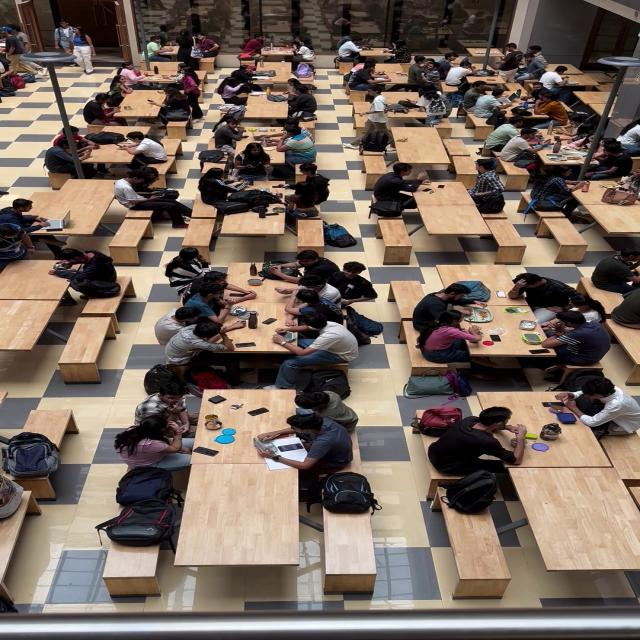Occupied: (416, 390, 628, 598), (122, 384, 369, 466), (180, 248, 338, 370), (424, 379, 640, 465), (416, 390, 633, 466), (479, 388, 616, 469), (185, 389, 317, 466), (1, 247, 120, 300), (206, 166, 326, 217), (197, 125, 298, 181), (462, 77, 562, 133), (49, 128, 171, 173), (464, 78, 561, 133), (0, 194, 103, 240), (208, 190, 296, 242), (354, 86, 454, 131), (459, 317, 563, 360), (81, 138, 184, 180), (373, 164, 481, 203), (222, 79, 316, 122), (499, 144, 579, 190), (97, 83, 186, 124), (390, 128, 452, 179), (355, 89, 450, 122), (238, 56, 308, 97), (202, 328, 306, 354), (342, 66, 417, 102), (234, 56, 314, 85), (584, 203, 640, 244), (411, 181, 490, 207), (525, 130, 583, 165), (342, 38, 412, 64), (457, 40, 552, 59), (524, 70, 612, 89), (113, 97, 163, 130), (450, 153, 494, 190), (440, 78, 501, 98), (198, 148, 238, 175), (188, 189, 224, 218), (557, 72, 611, 91), (135, 72, 182, 90), (192, 35, 221, 60), (257, 48, 298, 63), (441, 138, 472, 156), (193, 55, 216, 73), (165, 122, 188, 140), (165, 138, 184, 156), (144, 40, 164, 54), (160, 46, 176, 54)
Unoccupied: (514, 463, 640, 573), (182, 464, 306, 569), (439, 512, 511, 598), (320, 514, 377, 595), (0, 489, 32, 606), (100, 538, 162, 596), (418, 264, 534, 291), (391, 128, 452, 179), (412, 206, 496, 240), (0, 302, 50, 350), (18, 410, 78, 449), (418, 206, 496, 236), (537, 217, 589, 261), (600, 423, 640, 480), (23, 178, 105, 205), (107, 217, 155, 262), (478, 217, 526, 262), (57, 327, 107, 364), (426, 262, 522, 280), (376, 219, 413, 264), (390, 280, 428, 312), (570, 92, 610, 120), (182, 216, 218, 247), (360, 154, 391, 187), (76, 298, 129, 316), (296, 219, 324, 250), (547, 64, 575, 75)
